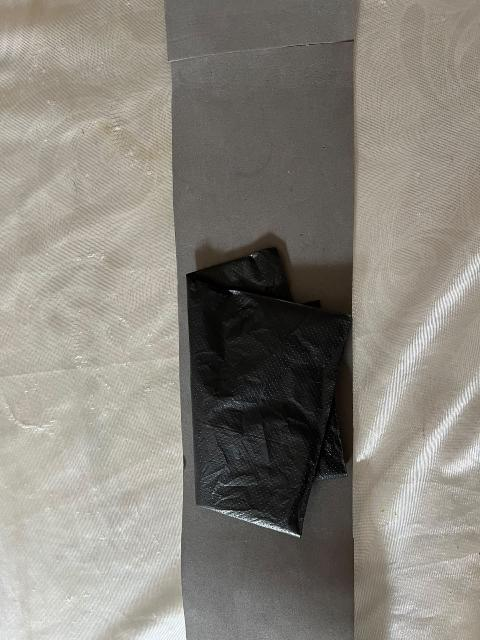LDPE: (91, 191, 406, 574)
